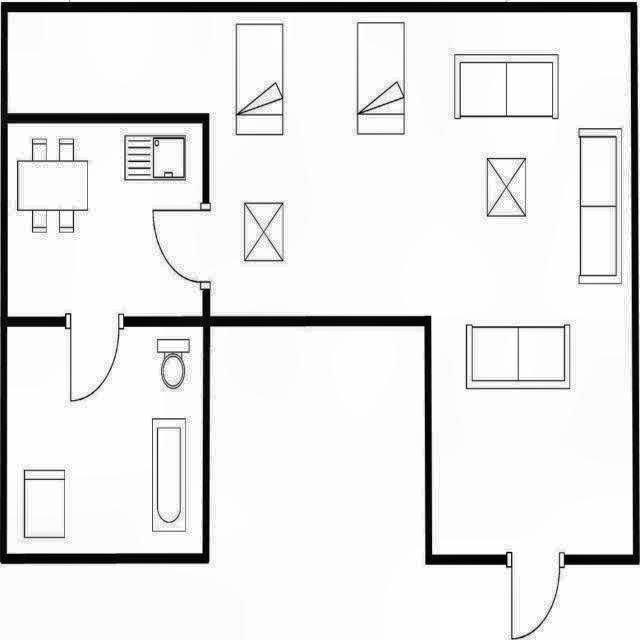room: (8, 13, 633, 554), (7, 328, 203, 553), (7, 124, 202, 315)
